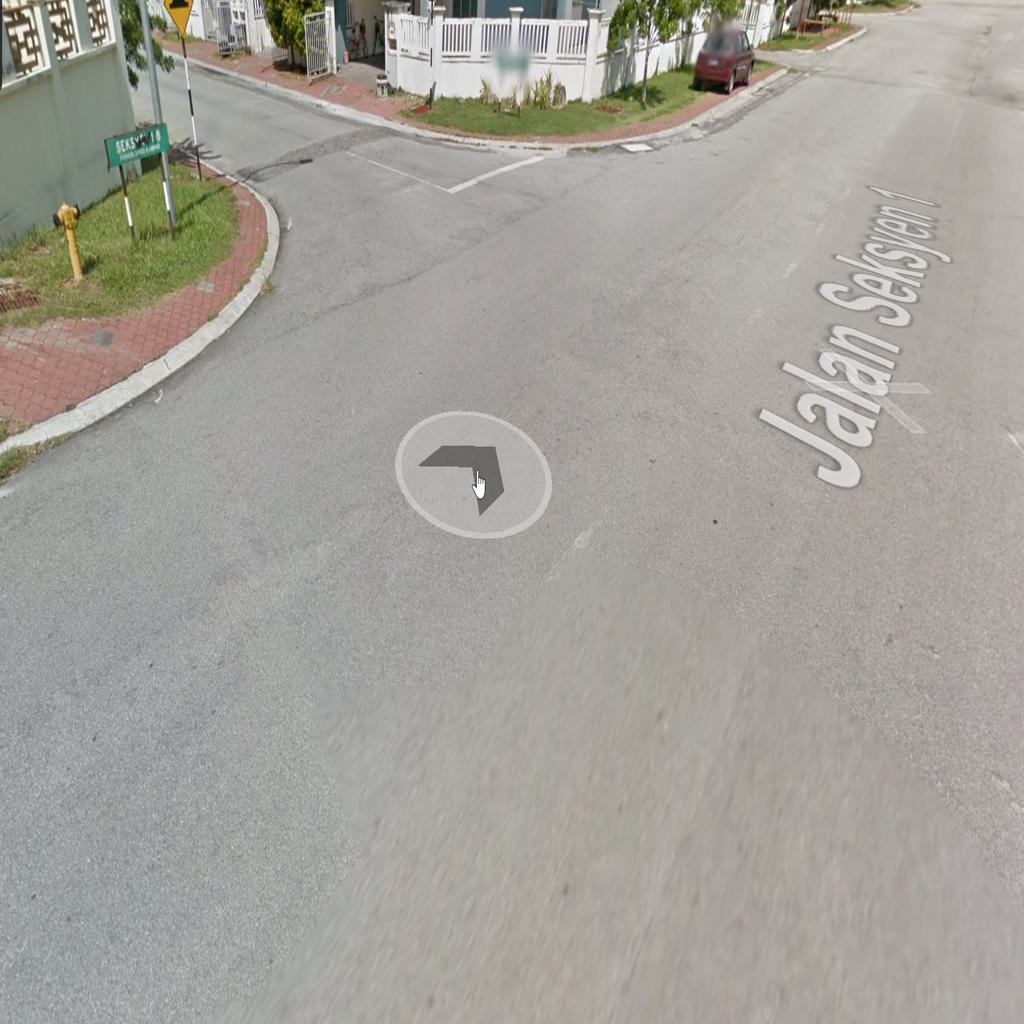Junction: (168, 79, 622, 325)
